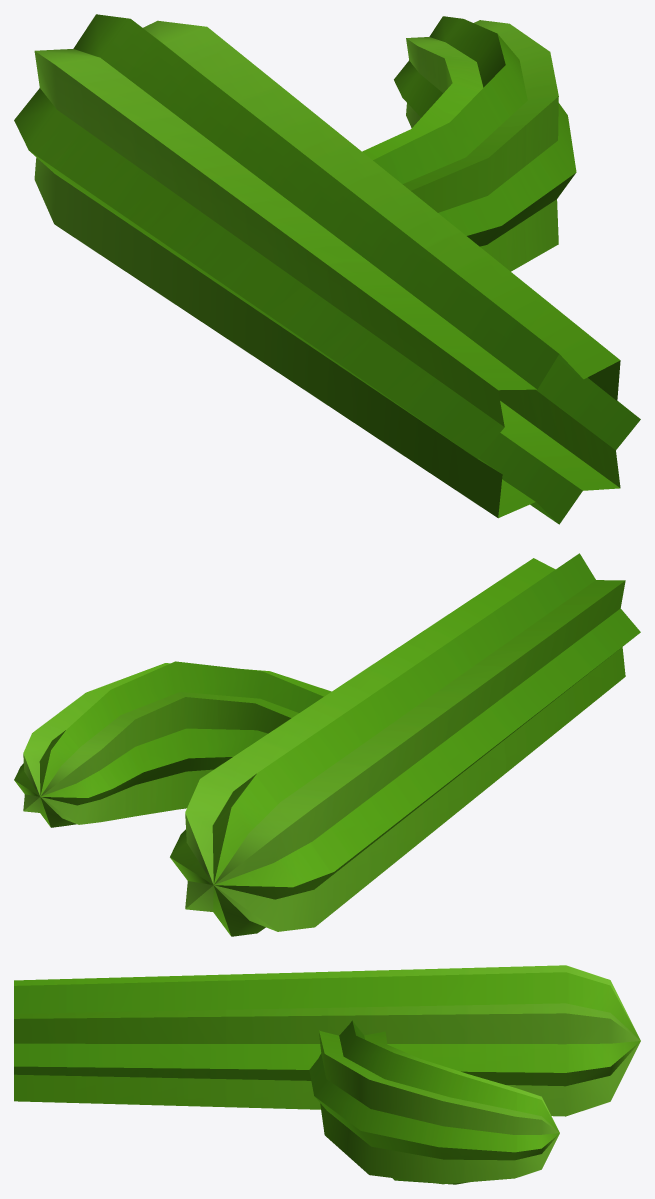
Rendered from Cactus 02.FBX.
3 views of the same model, one above another, from view 1: azimuth 30°, elevation 25°; view 2: azimuth 150°, elevation 25°; view 3: azimuth 270°, elevation 25° (orthographic). The views are drawn at different scales.
Parts seen in each view (by area): view 1: Cactus 02; view 2: Cactus 02; view 3: Cactus 02.
Boxes of the visible parts, x1,y1,x2,y2 form: Cactus 02: [14, 14, 640, 524]; Cactus 02: [14, 553, 640, 936]; Cactus 02: [14, 965, 640, 1184].
Bounding box in the file's own units: 103 × 45.86 × 190.
1 material, 1 textured.
